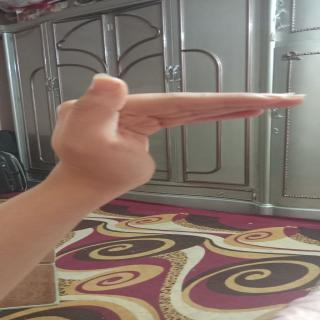KHAA: (9, 72, 313, 200)
